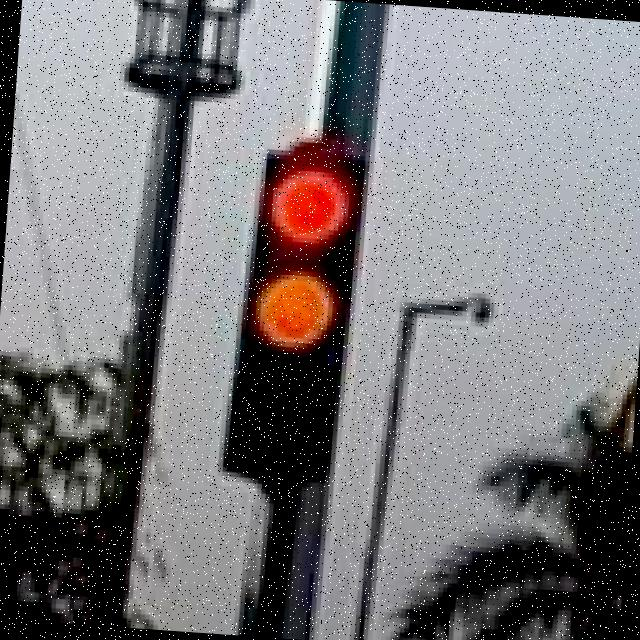Zolte swiatlo: (222, 142, 366, 485)
